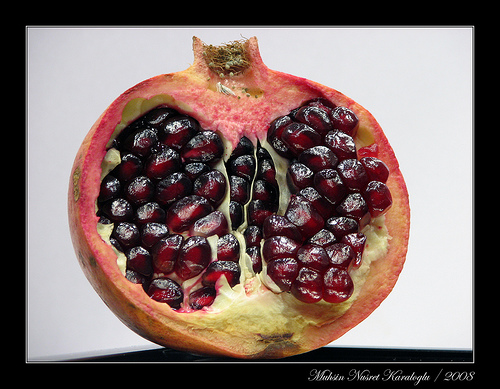pomogranate: (69, 37, 410, 357)
